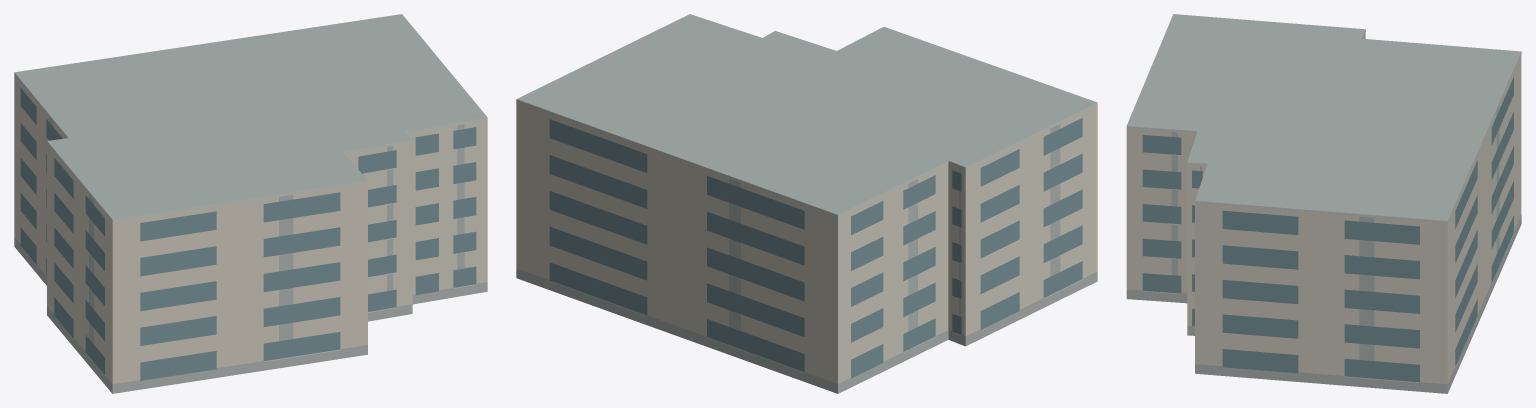
The model's file is survey-upis-32697099.glb.
The picture shows the model from 3 angles, left to right: view 1: azimuth 30°, elevation 25°; view 2: azimuth 150°, elevation 25°; view 3: azimuth 270°, elevation 25°; orthographic projection. The views are drawn at different scales.
Visible parts, largest first — view 1: survey-upis-32697099.tmp; view 2: survey-upis-32697099.tmp; view 3: survey-upis-32697099.tmp.
Boxes of the visible parts, box(x1,y1,x2,y2) form: survey-upis-32697099.tmp: box(14, 14, 487, 393); survey-upis-32697099.tmp: box(516, 14, 1097, 393); survey-upis-32697099.tmp: box(1126, 14, 1521, 393).
Bounding box in the file's own units: 39.18 × 15.25 × 31.59.
